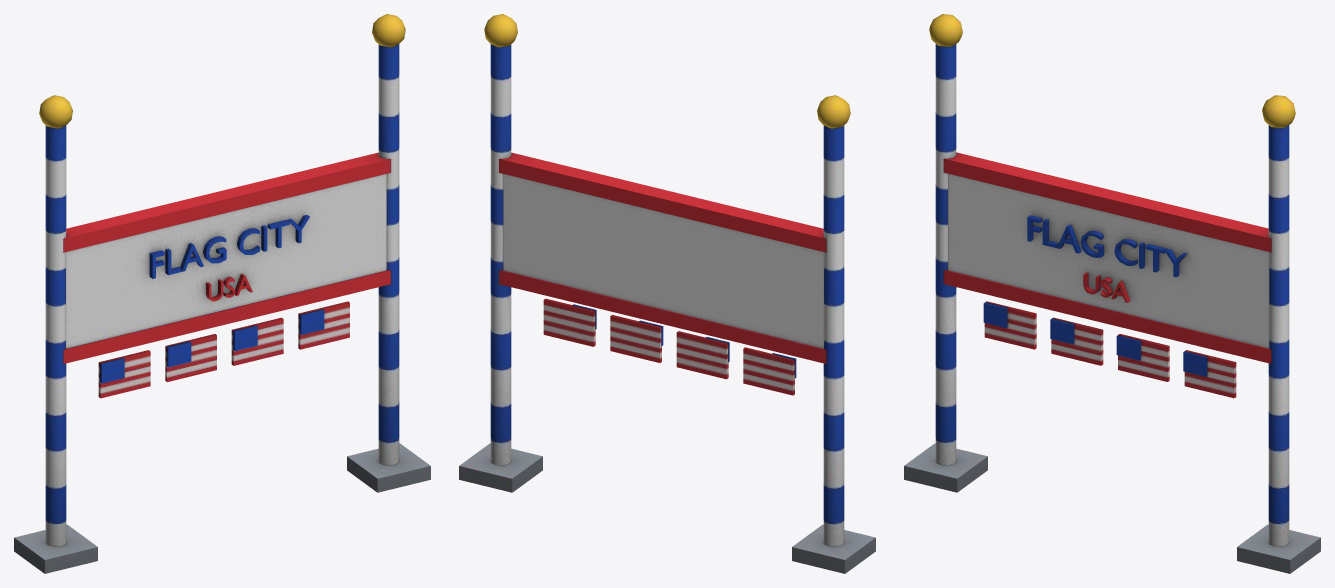
The model's file is guirnalda.glb.
3 views of the same model, side by side, from view 1: azimuth 30°, elevation 25°; view 2: azimuth 150°, elevation 25°; view 3: azimuth 330°, elevation 25° (orthographic).
Parts seen in each view (by area): view 1: guirnalda; view 2: guirnalda; view 3: guirnalda.
Part boxes in pixels (box(x1,y1,x2,y2)): guirnalda: box(14, 14, 430, 573); guirnalda: box(459, 14, 875, 573); guirnalda: box(904, 14, 1320, 573).
Bounding box in the file's own units: 2.32 × 2.64 × 0.32.
1 material, 1 textured.
